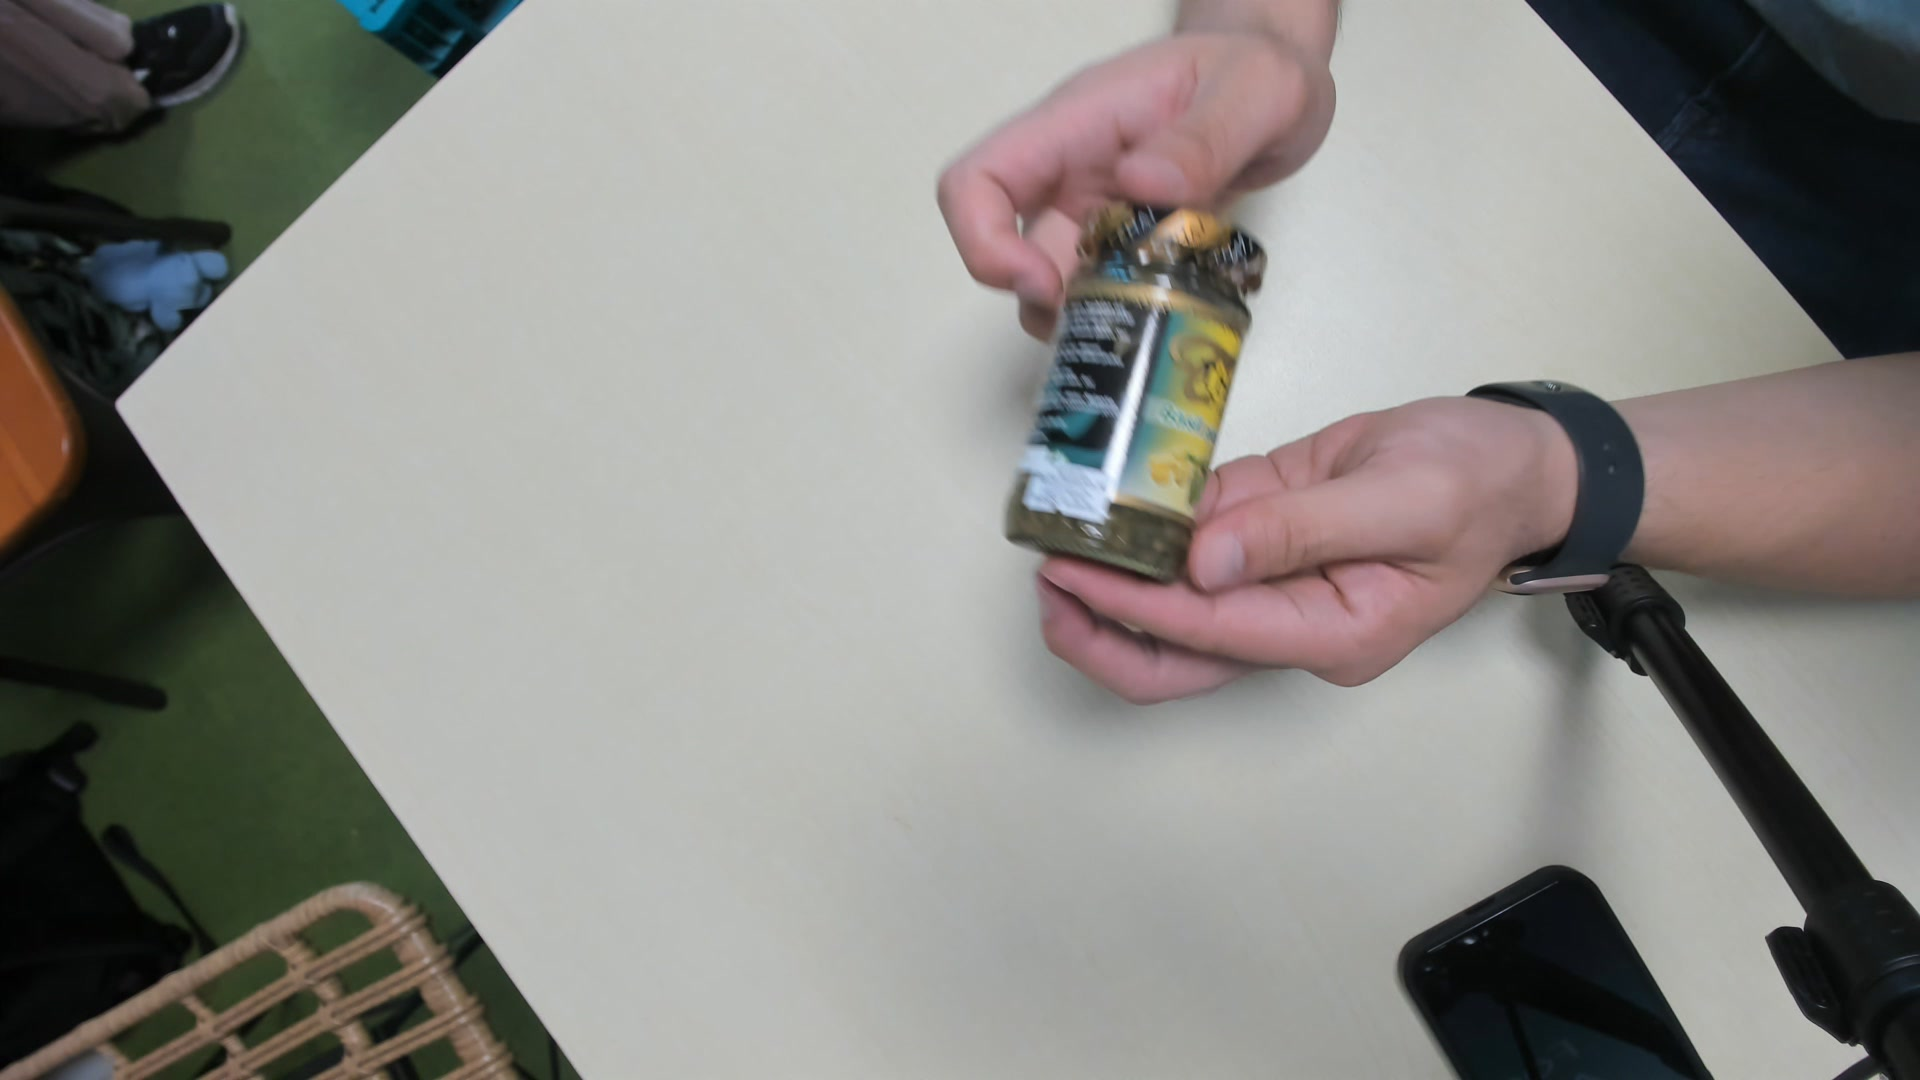OtherSauceDressing_0-99g_Halal_NonHealthy: (1005, 187, 1266, 593)
